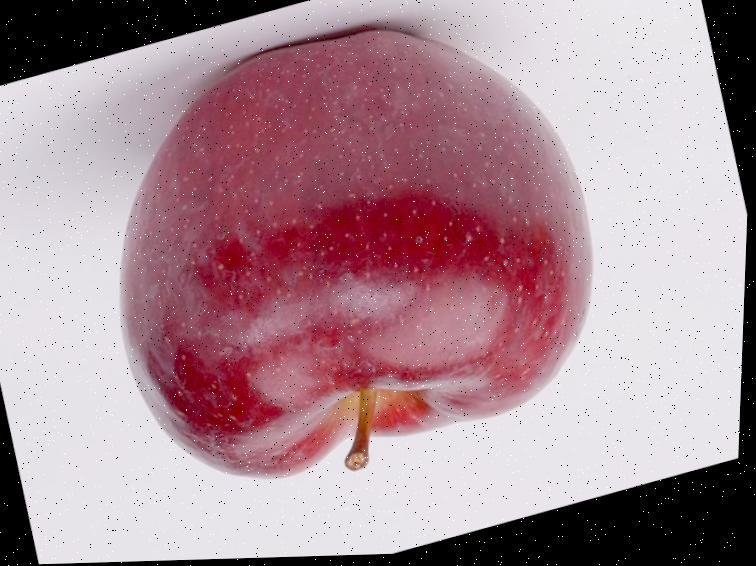HEALTHY: (20, 0, 657, 565)
